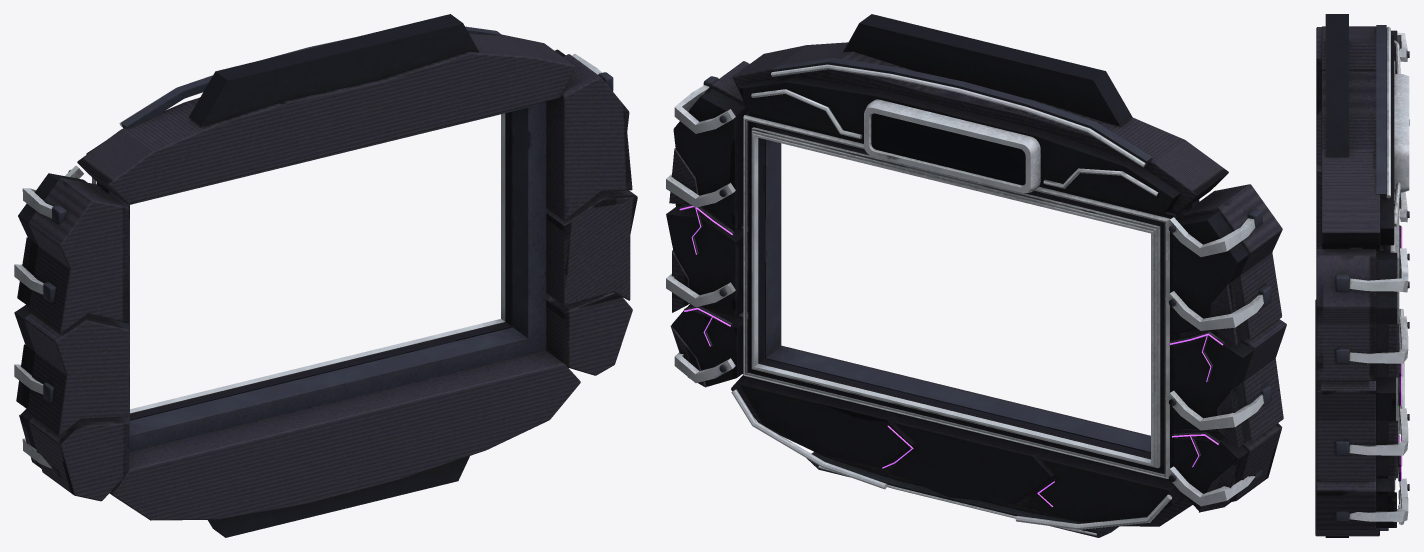
3 renders of one model, left to right at view 1: azimuth 30°, elevation 25°; view 2: azimuth 150°, elevation 25°; view 3: azimuth 270°, elevation 25°, orthographic. The views are drawn at different scales.
Parts seen in each view (by area): view 1: Exposed_basalt, Titanium_joints, Obsidian_crust, Platinum_braces; view 2: Obsidian_crust, Platinum_braces, Exposed_basalt, Titanium_joints, Blank_display, glow_violet_scars; view 3: Exposed_basalt, Obsidian_crust, Platinum_braces, Titanium_joints, glow_violet_scars.
Part boxes in pixels (bbox=[...]): Exposed_basalt: bbox=[16, 33, 637, 520]; Titanium_joints: bbox=[43, 26, 613, 477]; Obsidian_crust: bbox=[14, 14, 565, 537]; Platinum_braces: bbox=[14, 54, 601, 468]; Obsidian_crust: bbox=[666, 14, 1253, 520]; Platinum_braces: bbox=[666, 64, 1263, 535]; Exposed_basalt: bbox=[669, 42, 1286, 526]; Titanium_joints: bbox=[679, 58, 1271, 537]; Blank_display: bbox=[871, 113, 1025, 185]; glow_violet_scars: bbox=[679, 206, 1223, 506]; Exposed_basalt: bbox=[1315, 26, 1399, 536]; Obsidian_crust: bbox=[1325, 14, 1397, 537]; Platinum_braces: bbox=[1349, 26, 1409, 524]; Titanium_joints: bbox=[1335, 25, 1409, 530]; glow_violet_scars: bbox=[1399, 226, 1402, 480].
Size of the model in its own units: 12.01 by 9 by 1.83.
6 materials, 5 textured.
